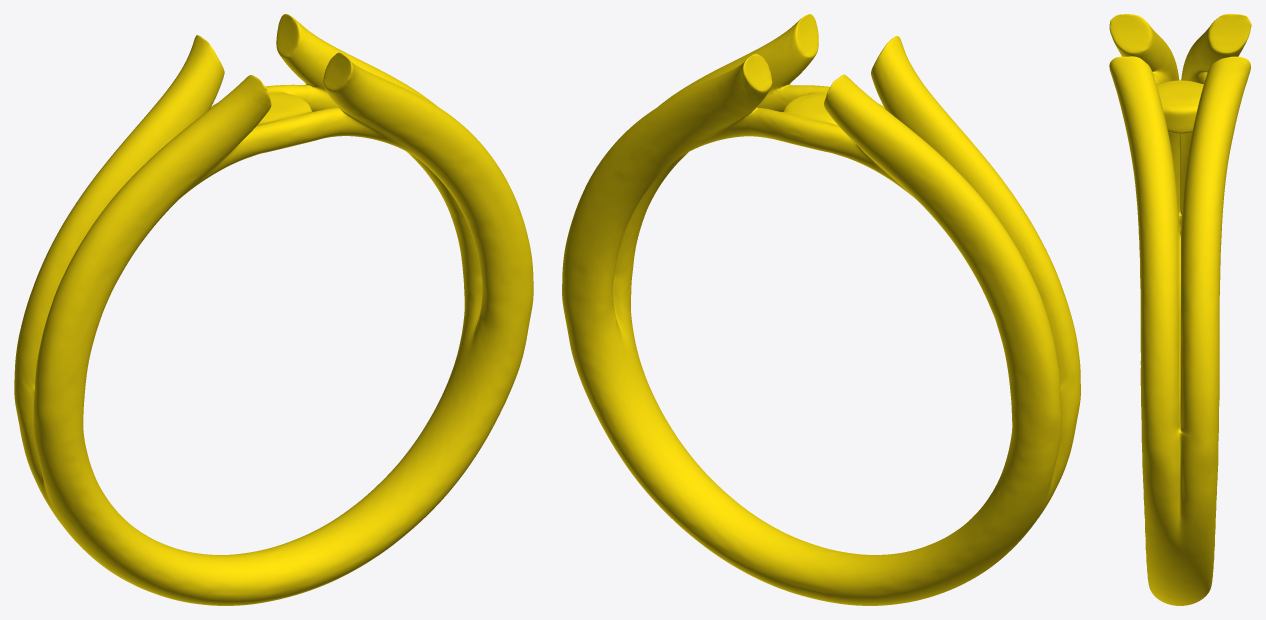
File: Shank_Two row split_Plain Gold_A_No, Hidden Halo_Band.glb
3 views of the same model, side by side, from view 1: azimuth 30°, elevation 25°; view 2: azimuth 150°, elevation 25°; view 3: azimuth 270°, elevation 25° (orthographic).
Bounding box in the file's own units: 0.0213 × 0.0225 × 0.00533.
